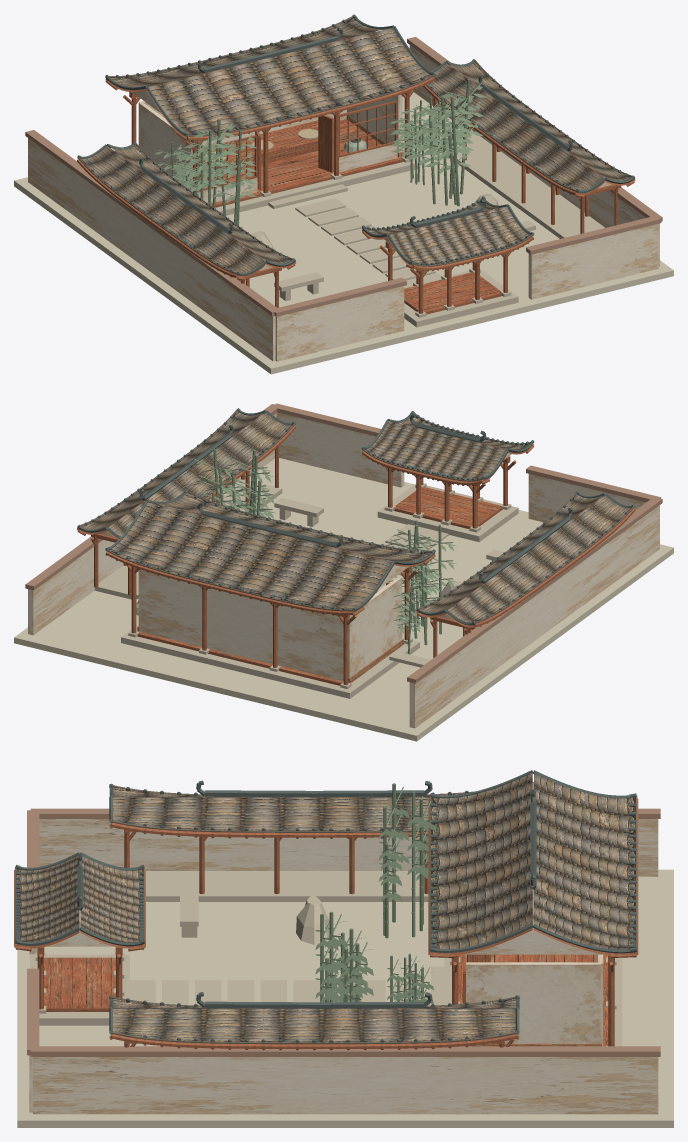
The picture shows the model from 3 angles, top to bottom: view 1: azimuth 30°, elevation 25°; view 2: azimuth 150°, elevation 25°; view 3: azimuth 270°, elevation 25°; orthographic projection. The views are drawn at different scales.
Parts seen in each view (by area): view 1: chengtian__painted_roof, chengtian__painted_plaster, chengtian__shore_sand, chengtian__painted_cedar, chengtian__warm_limestone, chengtian__jade_foliage, chengtian__tile_ridges, chengtian__chibi_ink; view 2: chengtian__painted_roof, chengtian__painted_plaster, chengtian__shore_sand, chengtian__painted_cedar, chengtian__warm_limestone, chengtian__tile_ridges, chengtian__jade_foliage, chengtian__chibi_ink; view 3: chengtian__painted_roof, chengtian__painted_plaster, chengtian__shore_sand, chengtian__warm_limestone, chengtian__painted_cedar, chengtian__tile_ridges, chengtian__jade_foliage, chengtian__chibi_ink.
Boxes of the visible parts, <box> form: chengtian__painted_roof: <box>25,17,662,316</box>; chengtian__painted_plaster: <box>28,32,659,361</box>; chengtian__shore_sand: <box>14,91,673,374</box>; chengtian__painted_cedar: <box>77,31,635,314</box>; chengtian__warm_limestone: <box>215,130,604,327</box>; chengtian__jade_foliage: <box>154,79,485,225</box>; chengtian__tile_ridges: <box>77,14,634,275</box>; chengtian__chibi_ink: <box>77,16,631,274</box>; chengtian__painted_roof: <box>25,403,662,683</box>; chengtian__painted_plaster: <box>28,412,659,728</box>; chengtian__shore_sand: <box>14,458,673,741</box>; chengtian__painted_cedar: <box>77,417,635,685</box>; chengtian__warm_limestone: <box>94,479,518,698</box>; chengtian__tile_ridges: <box>77,408,634,625</box>; chengtian__jade_foliage: <box>188,449,456,654</box>; chengtian__chibi_ink: <box>80,409,634,623</box>; chengtian__painted_roof: <box>17,773,660,1056</box>; chengtian__painted_plaster: <box>29,782,658,1114</box>; chengtian__shore_sand: <box>17,869,673,1127</box>; chengtian__warm_limestone: <box>30,871,622,1046</box>; chengtian__painted_cedar: <box>14,798,638,1050</box>; chengtian__tile_ridges: <box>15,770,636,1042</box>; chengtian__jade_foliage: <box>315,783,436,1004</box>; chengtian__chibi_ink: <box>15,785,637,1044</box>.
Bounding box in the file's own units: 19 × 5.99 × 21.11.
Materials: 12 (4 with a texture image).
